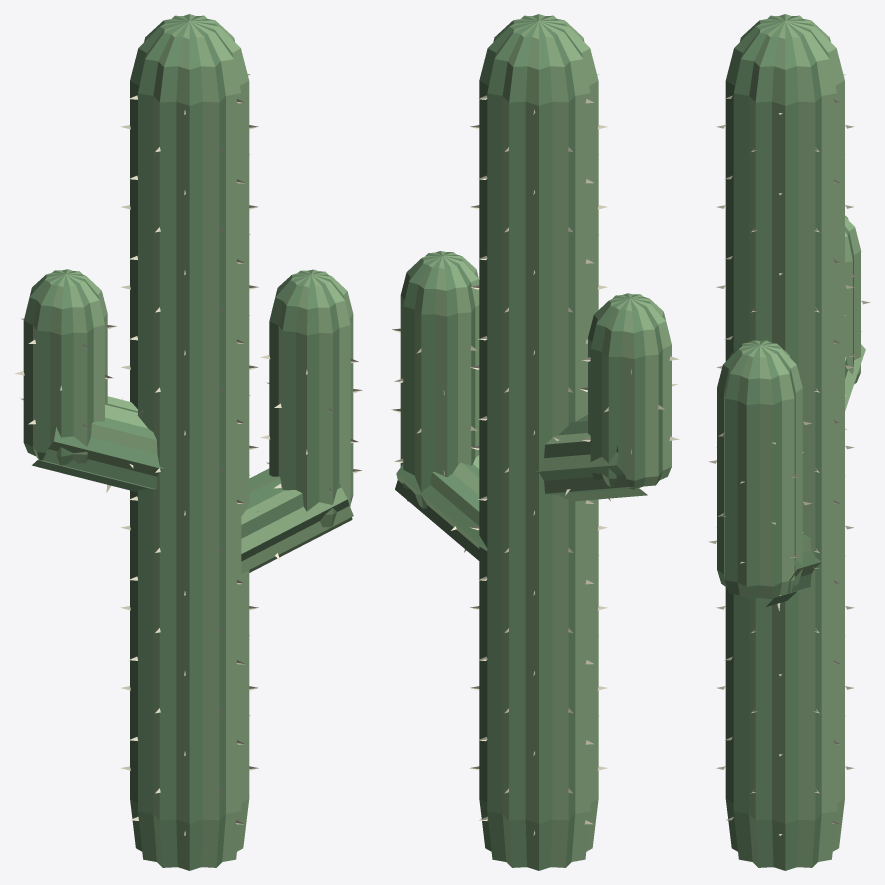
File: cactus-saguaro-b.glb
3 renders of one model, left to right at view 1: azimuth 30°, elevation 25°; view 2: azimuth 150°, elevation 25°; view 3: azimuth 270°, elevation 25°, orthographic.
Parts seen in each view (by area): view 1: cactus-saguaro-b; view 2: cactus-saguaro-b; view 3: cactus-saguaro-b.
Part boxes in pixels (x1,y1,x2,y2): cactus-saguaro-b: (14, 14, 362, 870); cactus-saguaro-b: (391, 14, 679, 870); cactus-saguaro-b: (708, 14, 870, 870).
Bounding box in the file's own units: 0.9994 × 2.6 × 0.4643.
